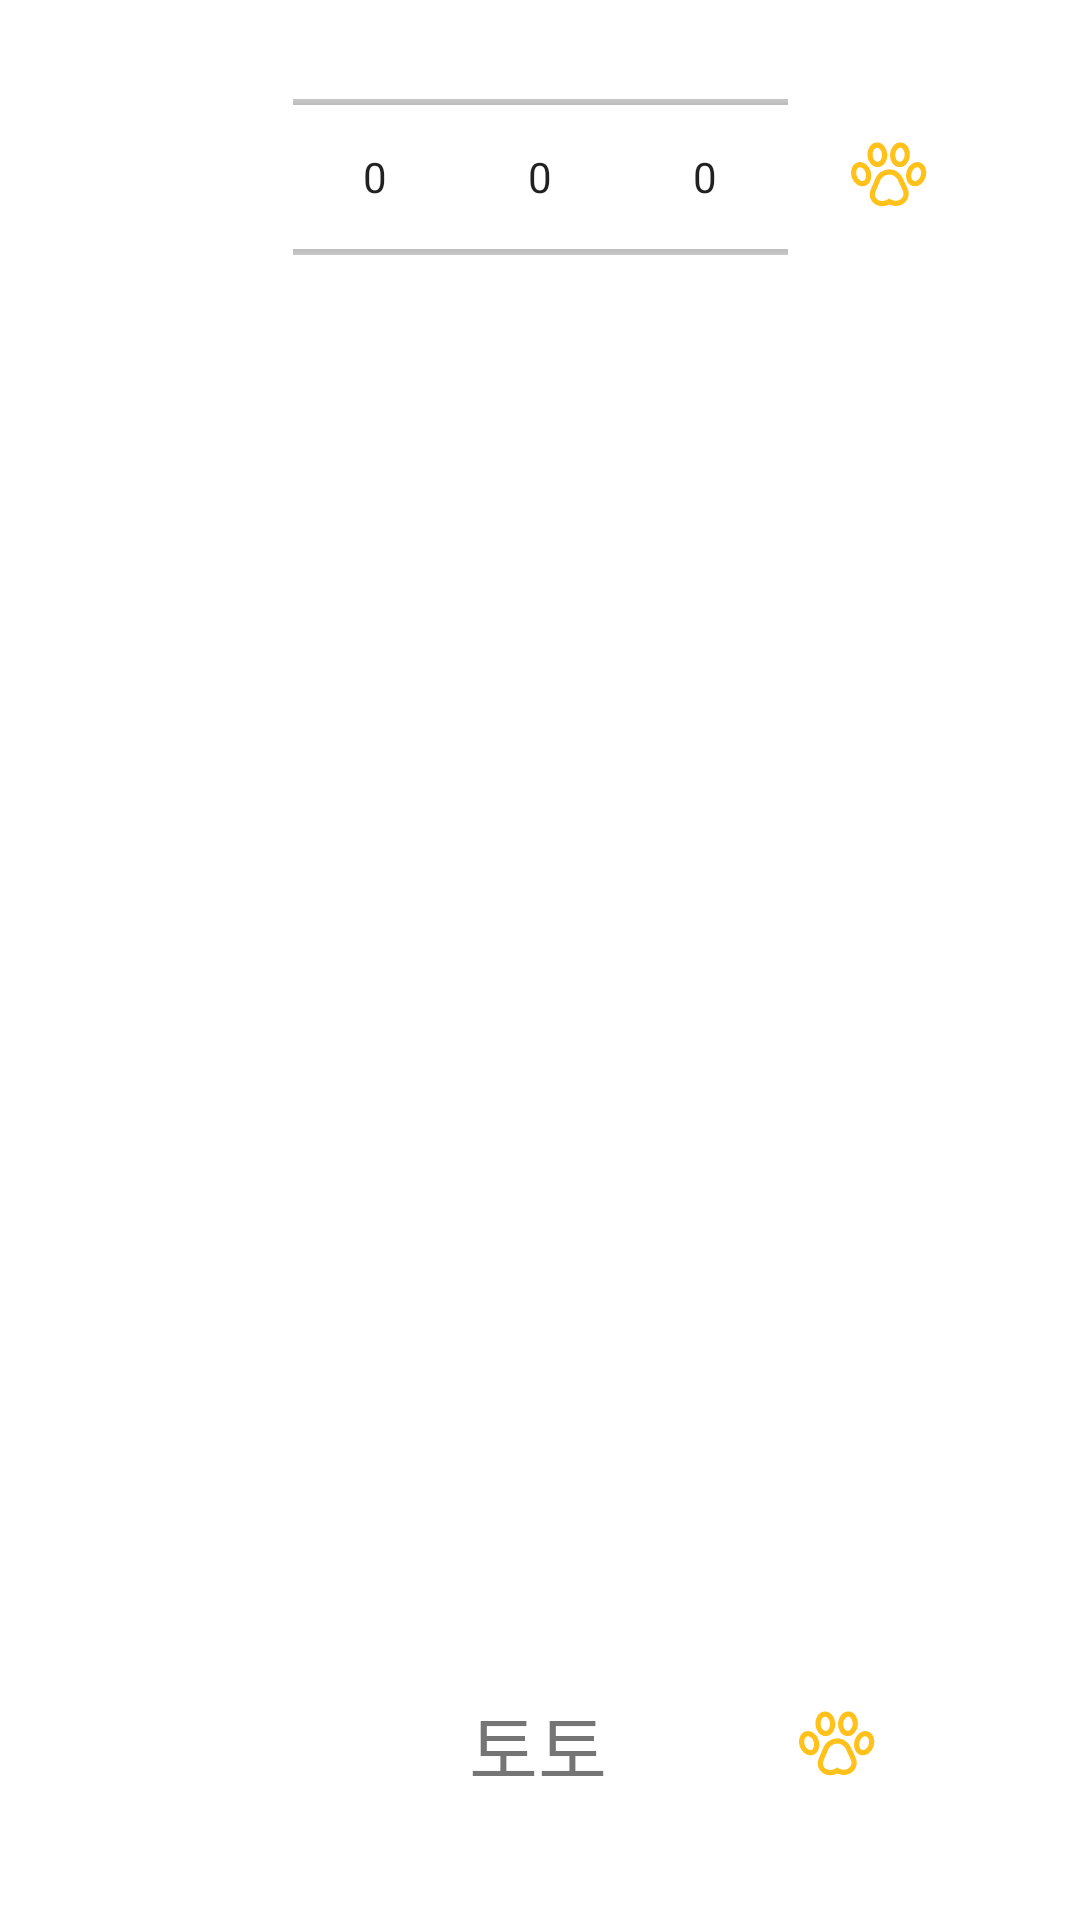

Where icons sit on this 1080 x 1920 app screen, as [left=x1, top=y1, right=x2, bottom=y2]:
walk: [left=851, top=142, right=927, bottom=207], [left=799, top=1711, right=875, bottom=1776]
